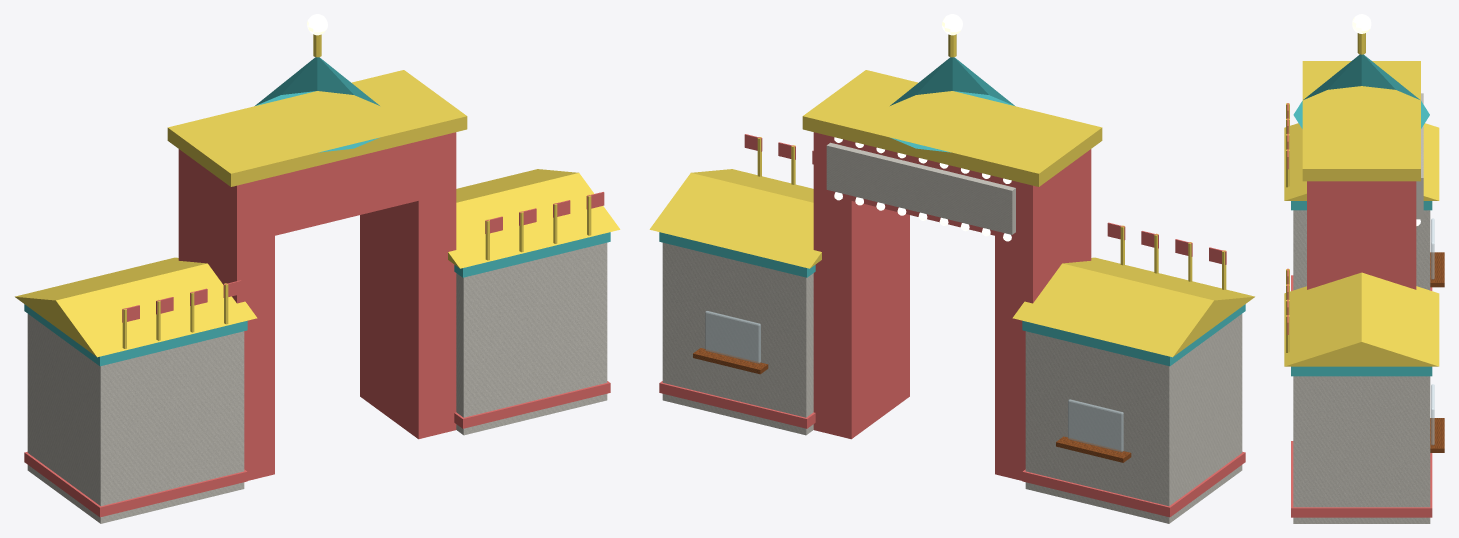
The model's file is theme-park-rides-and-coasters-theme-park-rides-and-coa-20fe20c0__28674.glb.
3 views of the same model, side by side, from view 1: azimuth 30°, elevation 25°; view 2: azimuth 150°, elevation 25°; view 3: azimuth 270°, elevation 25° (orthographic). The views are drawn at different scales.
Parts seen in each view (by area): view 1: theme-park-rides-and-coasters-park-entrance-gate; view 2: theme-park-rides-and-coasters-park-entrance-gate; view 3: theme-park-rides-and-coasters-park-entrance-gate.
Boxes of the visible parts, left/top/right/bottom form: theme-park-rides-and-coasters-park-entrance-gate: left=15, top=14, right=620, bottom=523; theme-park-rides-and-coasters-park-entrance-gate: left=649, top=14, right=1254, bottom=523; theme-park-rides-and-coasters-park-entrance-gate: left=1284, top=14, right=1444, bottom=523.
Size of the model in its own units: 12.4 by 9.52 by 3.52.
Materials: 7 (2 with a texture image).
